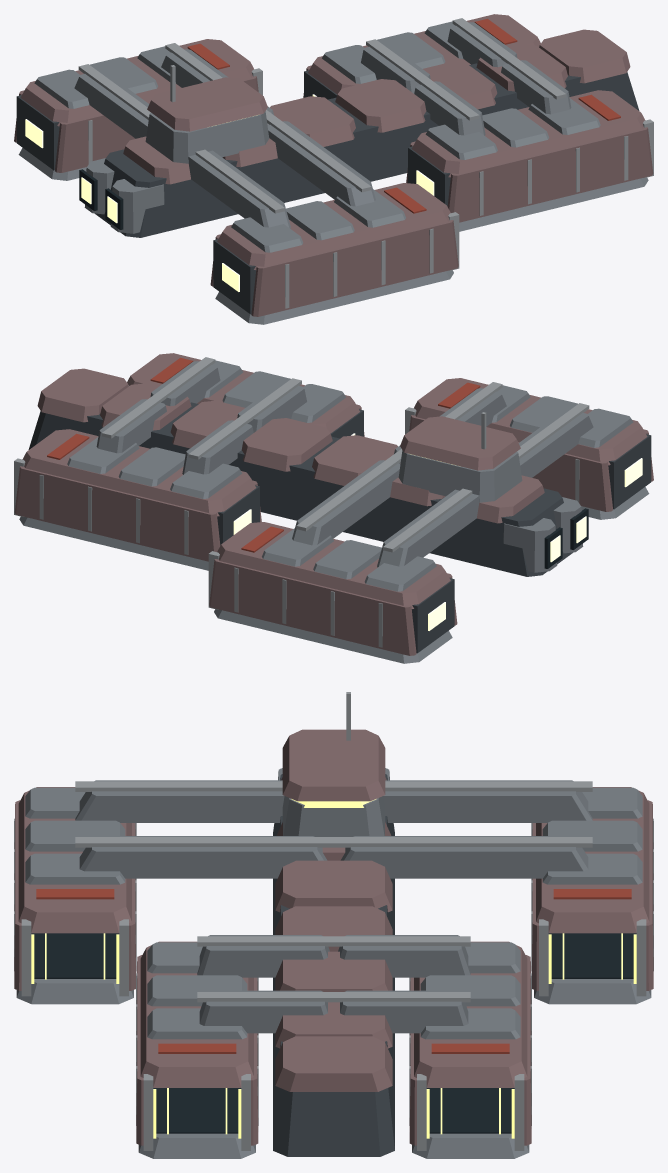
File: gateward-carrier.glb
The picture shows the model from 3 angles, top to bottom: view 1: azimuth 30°, elevation 25°; view 2: azimuth 150°, elevation 25°; view 3: azimuth 270°, elevation 25°; orthographic projection. The views are drawn at different scales.
Parts seen in each view (by area): view 1: Carrier_plate, Carrier_armor, Carrier_core, Carrier_edge, Carrier_mark, Carrier_drive, Carrier_recess; view 2: Carrier_plate, Carrier_armor, Carrier_core, Carrier_edge, Carrier_mark, Carrier_drive, Carrier_recess; view 3: Carrier_armor, Carrier_plate, Carrier_edge, Carrier_recess, Carrier_core, Carrier_mark, Carrier_window.
Part boxes in pixels (x1,y1,x2,y2): Carrier_plate: [14, 14, 653, 316]; Carrier_armor: [18, 21, 648, 324]; Carrier_core: [16, 63, 639, 314]; Carrier_edge: [78, 18, 653, 308]; Carrier_mark: [187, 18, 620, 213]; Carrier_drive: [25, 94, 434, 291]; Carrier_recess: [79, 169, 123, 229]; Carrier_plate: [14, 353, 653, 655]; Carrier_armor: [19, 360, 649, 663]; Carrier_core: [28, 402, 651, 653]; Carrier_edge: [14, 357, 589, 647]; Carrier_mark: [47, 357, 480, 552]; Carrier_drive: [233, 433, 642, 630]; Carrier_recess: [544, 508, 588, 568]; Carrier_armor: [16, 768, 651, 1158]; Carrier_plate: [14, 729, 653, 1145]; Carrier_edge: [14, 692, 653, 1150]; Carrier_recess: [31, 933, 636, 1133]; Carrier_core: [273, 774, 394, 1156]; Carrier_mark: [36, 889, 631, 1053]; Carrier_window: [31, 799, 636, 1138].
Bounding box in the file's own units: 163 × 47 × 131.
